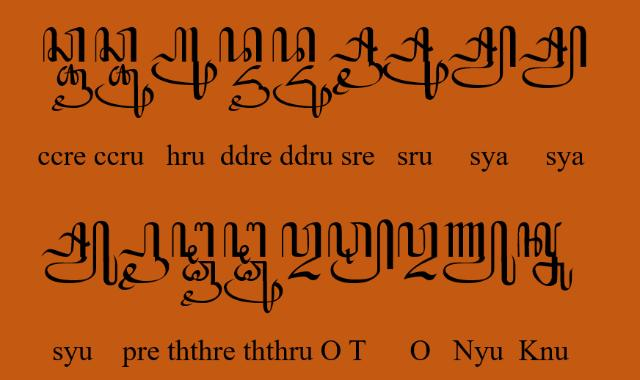-T: (328, 220, 394, 284)
Knu: (516, 221, 574, 291)
Nyu: (443, 220, 517, 286)
O: (280, 222, 322, 280), (397, 222, 439, 280)
_cre: (51, 62, 94, 111)
_cru: (96, 63, 154, 119)
_dre: (228, 64, 270, 111)
_dru: (272, 65, 332, 119)
_hru: (150, 26, 218, 100)
_pre: (119, 221, 170, 291)
_sre: (328, 26, 384, 96)
_sru: (382, 26, 448, 100)
_sy: (448, 24, 518, 90), (517, 23, 587, 88)
_syu: (42, 220, 118, 286)
_thre: (180, 261, 222, 307)
_thru: (223, 260, 283, 314)
c: (42, 25, 86, 63), (94, 26, 138, 64)
d: (219, 26, 263, 62), (272, 27, 316, 63)
th: (171, 222, 215, 264), (223, 222, 267, 264)
